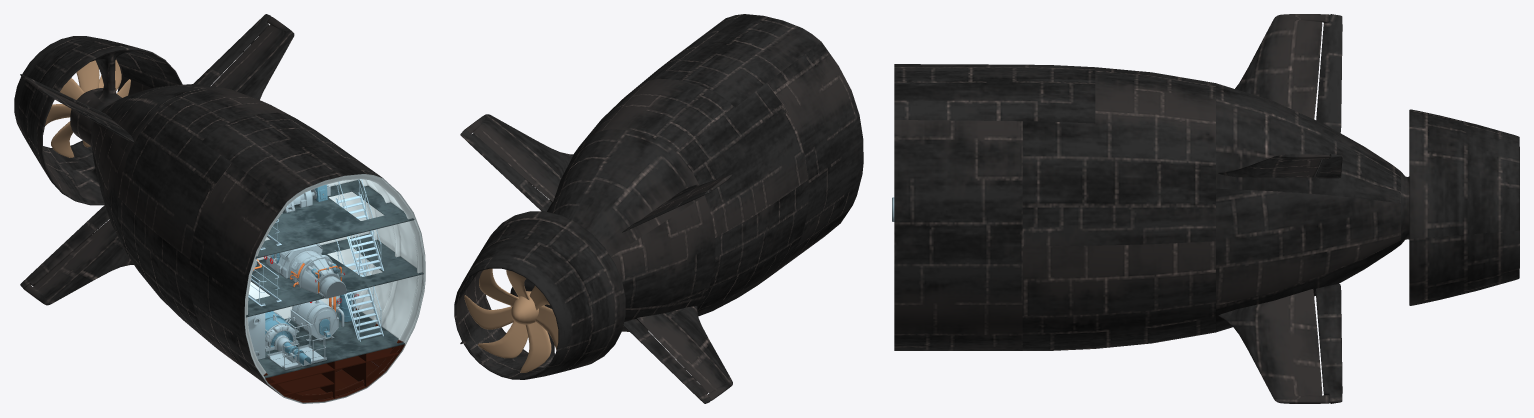
File: submarine_sample.glb
The picture shows the model from 3 angles, left to right: view 1: azimuth 30°, elevation 25°; view 2: azimuth 150°, elevation 25°; view 3: azimuth 270°, elevation 25°; orthographic projection. The views are drawn at different scales.
Visible parts, largest first — view 1: submarine001_Material #216_0, boiler001_Material #217_0; view 2: submarine001_Material #216_0; view 3: submarine001_Material #216_0.
Part boxes in pixels (x1,y1,x2,y2): submarine001_Material #216_0: [14, 14, 382, 395]; boiler001_Material #217_0: [244, 174, 425, 403]; submarine001_Material #216_0: [454, 14, 863, 403]; submarine001_Material #216_0: [894, 14, 1519, 403].
Size of the model in its own units: 1195 by 1017 by 2232.
2 materials, 2 textured.
